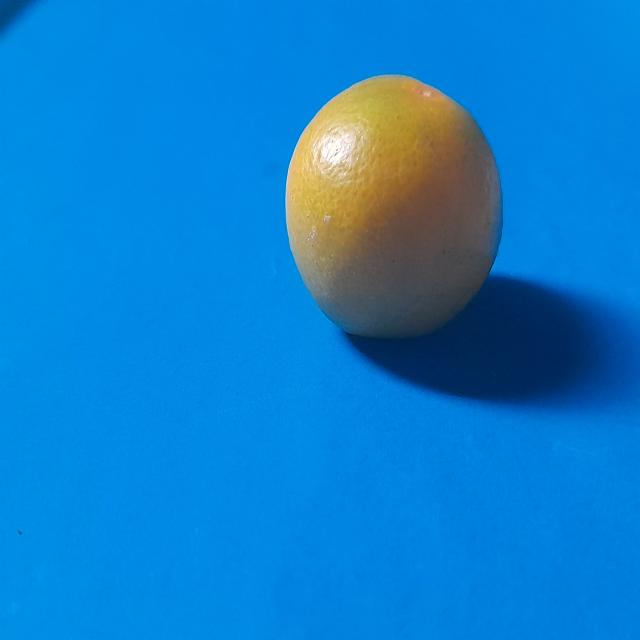greening: (280, 69, 505, 344)
